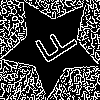F: (26, 21, 80, 71)
